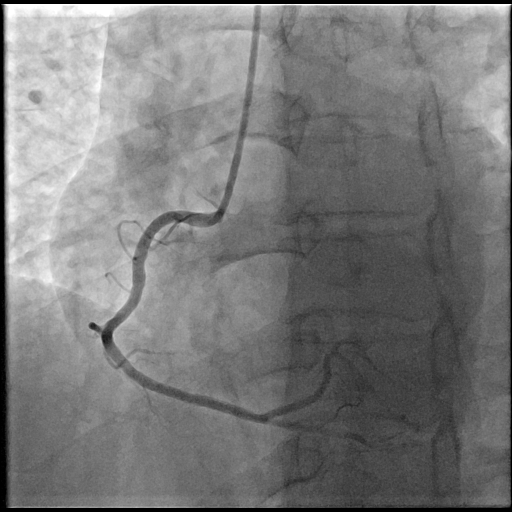RCA: (89, 211, 331, 423)
catherter: (211, 5, 261, 224)
